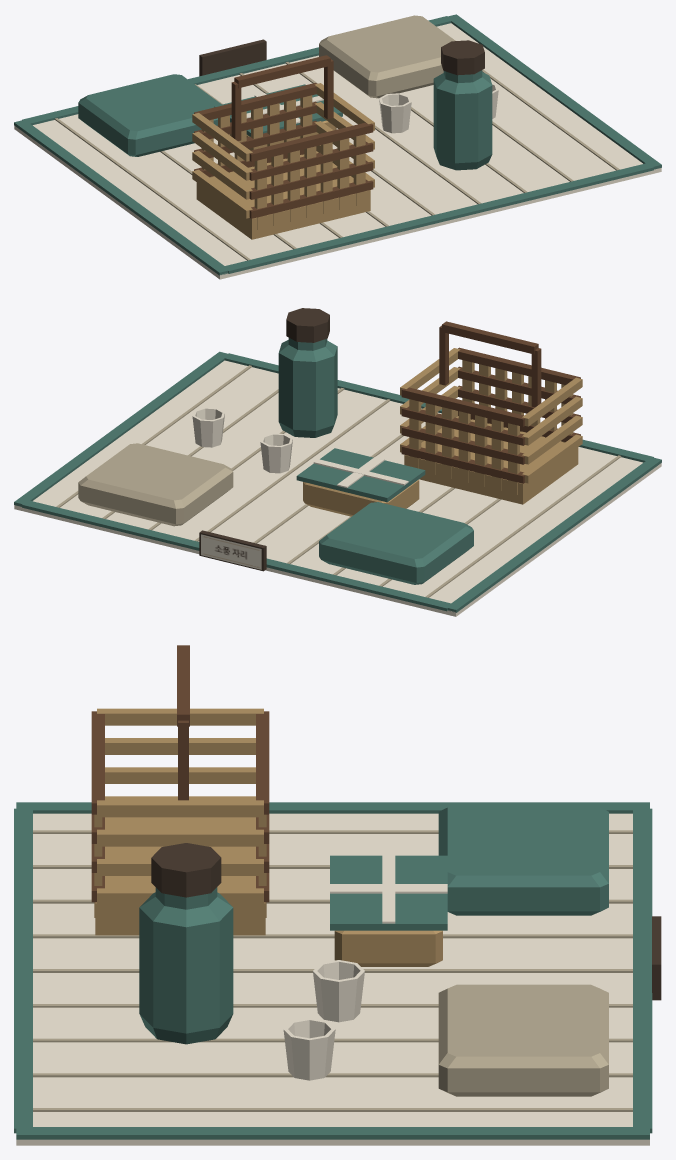
The model's file is F03_Picnic_Set.fbx.
The picture shows the model from 3 angles, top to bottom: view 1: azimuth 30°, elevation 25°; view 2: azimuth 150°, elevation 25°; view 3: azimuth 270°, elevation 25°; orthographic projection. The views are drawn at different scales.
Visible parts, largest first — view 1: Picnic_Mat, Basket, Seat_Pads, Flask_and_Cups, Front_Label, Lunch_Box; view 2: Picnic_Mat, Basket, Seat_Pads, Flask_and_Cups, Lunch_Box, Front_Label; view 3: Picnic_Mat, Seat_Pads, Basket, Flask_and_Cups, Lunch_Box, Front_Label.
Boxes of the visible parts, box(x1,y1,x2,y2) form: Picnic_Mat: box(14, 14, 661, 279); Basket: box(192, 55, 374, 239); Seat_Pads: box(78, 15, 455, 156); Flask_and_Cups: box(379, 40, 498, 170); Front_Label: box(199, 39, 266, 76); Lunch_Box: box(214, 84, 342, 150); Picnic_Mat: box(14, 351, 661, 616); Basket: box(400, 321, 582, 504); Seat_Pads: box(78, 443, 473, 584); Flask_and_Cups: box(192, 308, 337, 473); Lunch_Box: box(296, 448, 425, 516); Front_Label: box(199, 530, 266, 571); Picnic_Mat: box(14, 802, 652, 1145); Seat_Pads: box(438, 803, 608, 1096); Basket: box(91, 645, 269, 935); Flask_and_Cups: box(139, 843, 364, 1080); Lunch_Box: box(330, 853, 447, 966); Front_Label: box(652, 916, 661, 1000).
Size of the model in its own units: 2.68 by 0.832 by 2.21.
Materials: 7 (1 with a texture image).
